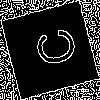C: (25, 24, 79, 72)
